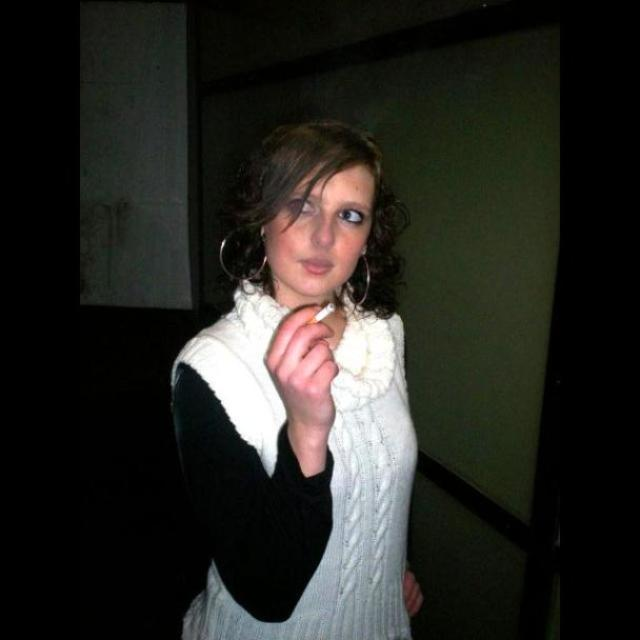rokok: (300, 296, 340, 338)
